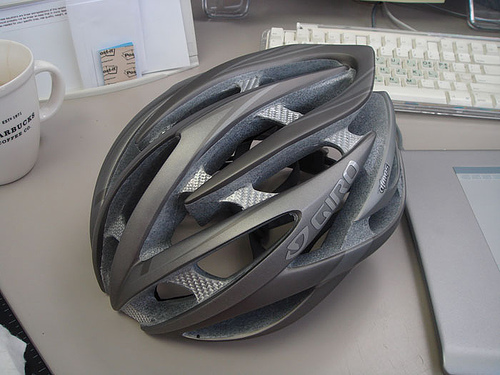helmet: (104, 69, 408, 321)
